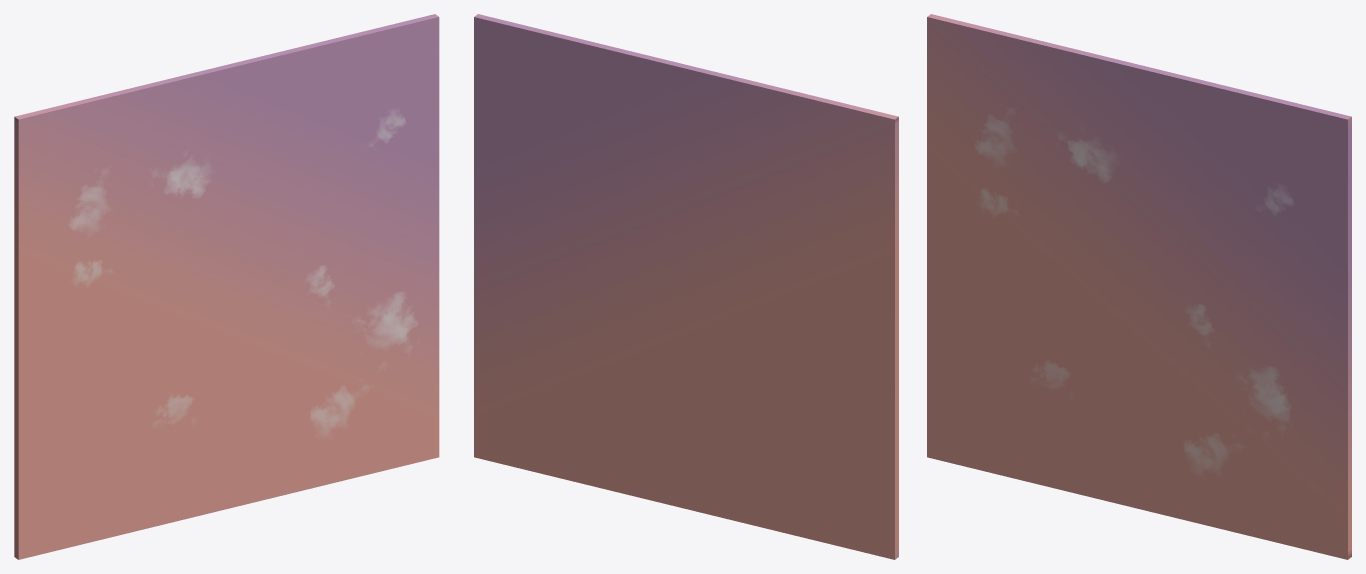
Rendered from sunsetskycloud.glb.
3 renders of one model, left to right at view 1: azimuth 30°, elevation 25°; view 2: azimuth 150°, elevation 25°; view 3: azimuth 330°, elevation 25°, orthographic.
Parts seen in each view (by area): view 1: Cube.001, cloud_04_cloud_00_0.001, cloud_03, cloud_03_cloud_00_0.001, cloud_04, cloud_06_Cloud_01_0.001; view 2: Cube.001; view 3: Cube.001, cloud_03, cloud_04_cloud_00_0.001, cloud_03_cloud_00_0.001, cloud_04, cloud_06_Cloud_01_0.001, cloud_05, cloud_05_Cloud_01_0.001.
Boxes of the visible parts, x1,y1,x2,y2 form: Cube.001: [14, 14, 439, 559]; cloud_04_cloud_00_0.001: [310, 385, 369, 435]; cloud_03: [69, 169, 108, 232]; cloud_03_cloud_00_0.001: [375, 292, 417, 350]; cloud_04: [153, 158, 209, 198]; cloud_06_Cloud_01_0.001: [356, 308, 406, 363]; Cube.001: [474, 14, 898, 559]; Cube.001: [927, 14, 1351, 559]; cloud_03: [975, 108, 1014, 165]; cloud_04_cloud_00_0.001: [1184, 433, 1241, 474]; cloud_03_cloud_00_0.001: [1249, 366, 1290, 430]; cloud_04: [1059, 134, 1115, 182]; cloud_06_Cloud_01_0.001: [1239, 374, 1289, 432]; cloud_05: [1068, 141, 1105, 173]; cloud_05_Cloud_01_0.001: [1032, 360, 1070, 393].
Bounding box in the file's own units: 99.85 × 99.85 × 9.
Materials: 11 (5 with a texture image).
